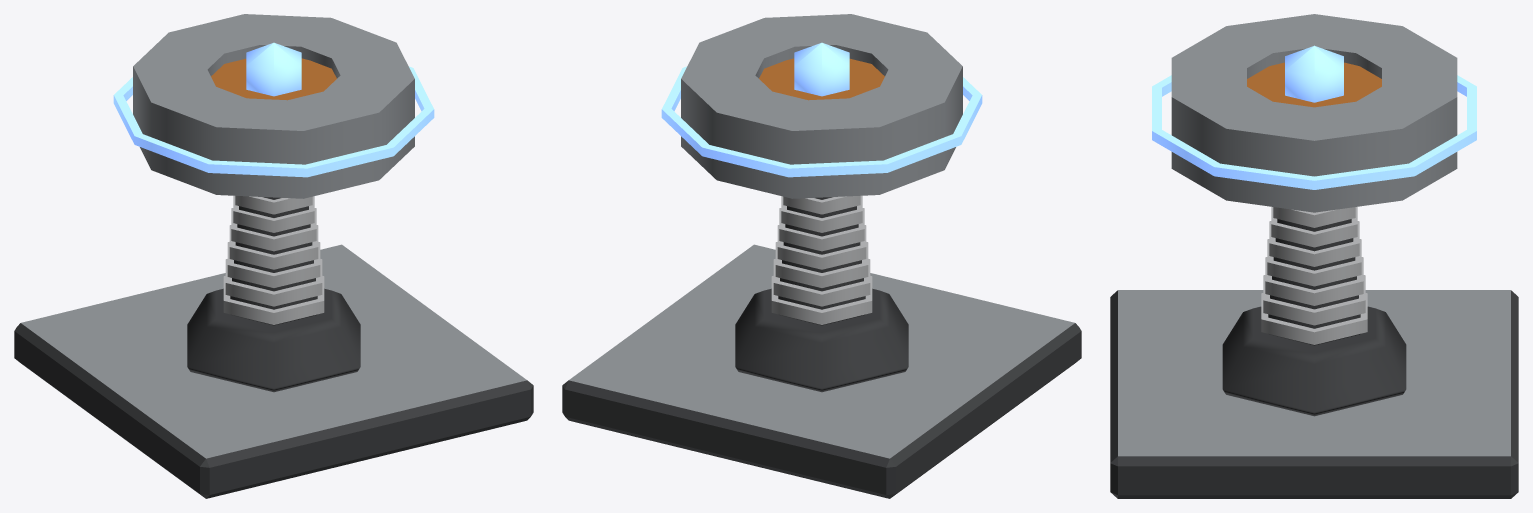
File: R4X_AreaEMP_LOD1.fbx
The picture shows the model from 3 angles, left to right: view 1: azimuth 30°, elevation 25°; view 2: azimuth 150°, elevation 25°; view 3: azimuth 270°, elevation 25°; orthographic projection. The views are drawn at different scales.
Parts seen in each view (by area): view 1: R4X_AreaEMP_LOD1; view 2: R4X_AreaEMP_LOD1; view 3: R4X_AreaEMP_LOD1.
Boxes of the visible parts, x1,y1,x2,y2 form: R4X_AreaEMP_LOD1: [14, 14, 533, 498]; R4X_AreaEMP_LOD1: [562, 14, 1081, 498]; R4X_AreaEMP_LOD1: [1110, 14, 1518, 498].
Bounding box in the file's own units: 0.52 × 0.52 × 0.52.
